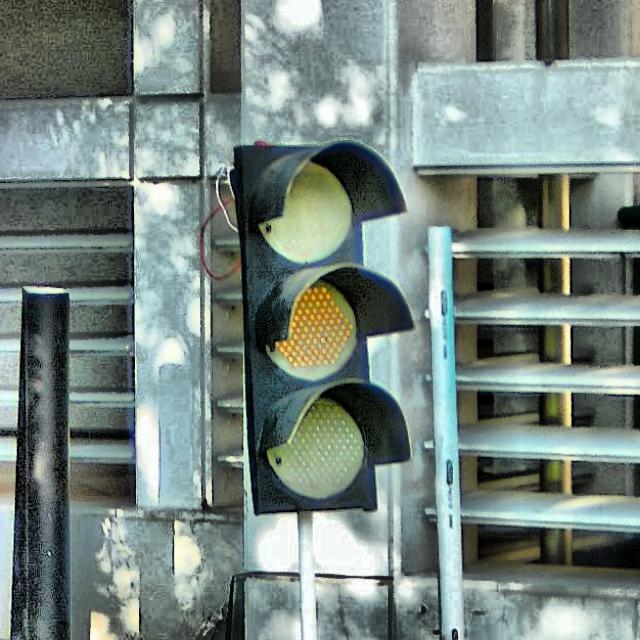yellow: (232, 143, 410, 512)
